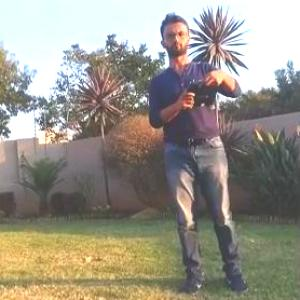follow: (142, 4, 254, 297)
